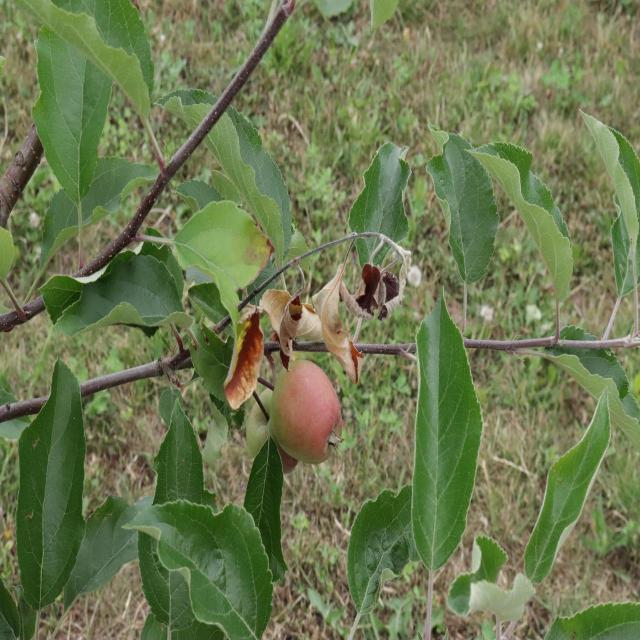-FireBlight-: (223, 231, 411, 409)
